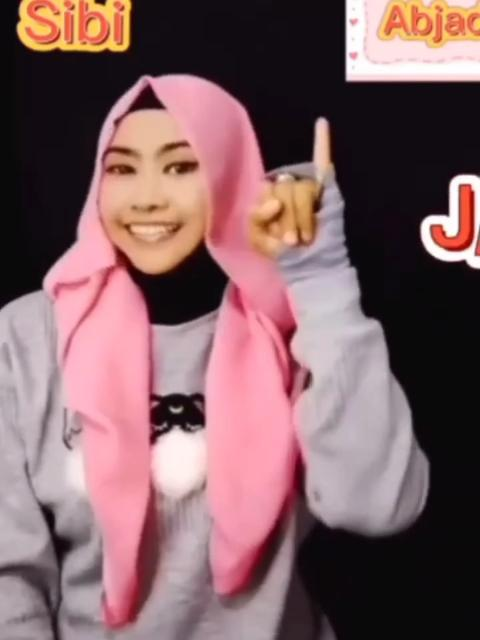I: (250, 118, 346, 272)
